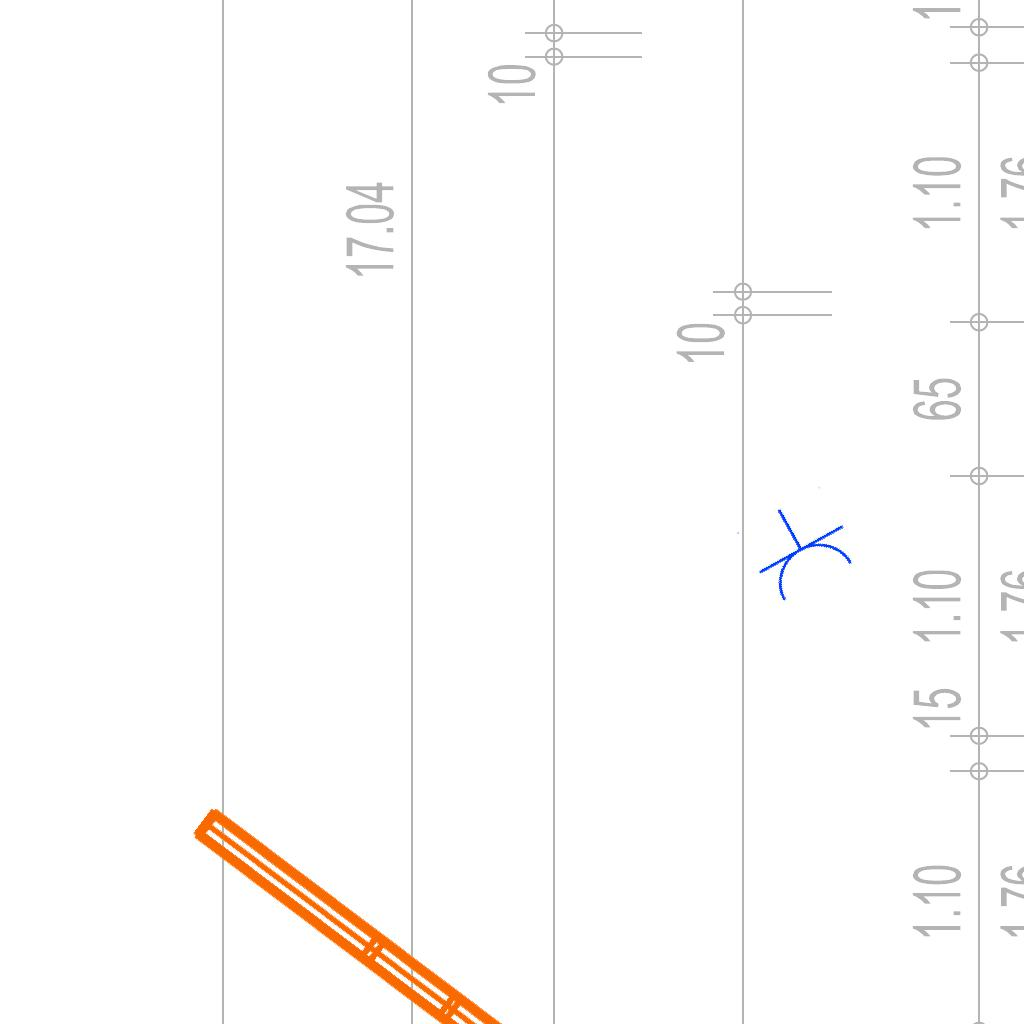Ambulanz_Pendelleuchte_LED: (175, 749, 861, 1024)
Schukosteckdose_einfach: (734, 485, 864, 610)
